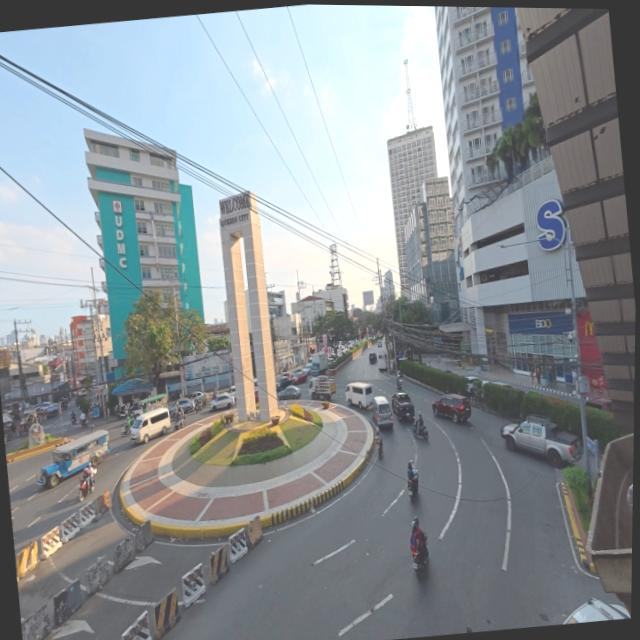car: (430, 391, 474, 427), (392, 391, 418, 426), (208, 391, 235, 411), (277, 384, 302, 402)
vans: (126, 406, 174, 445)
